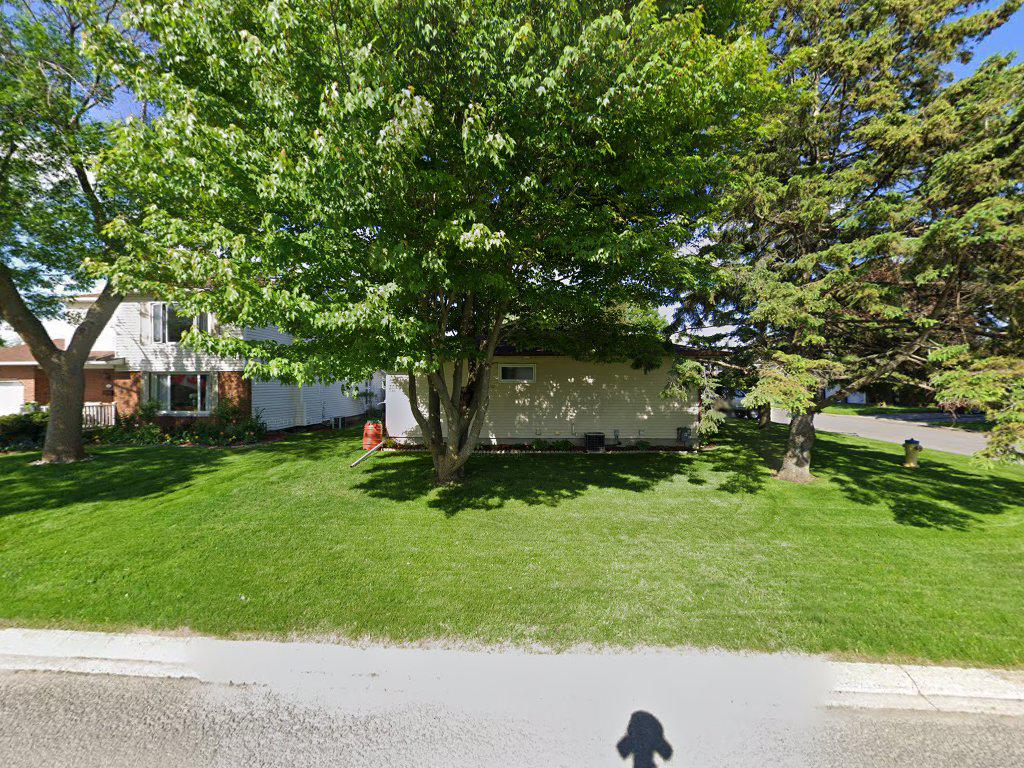trunk: (403, 364, 494, 492), (38, 345, 87, 471), (778, 402, 817, 498)
